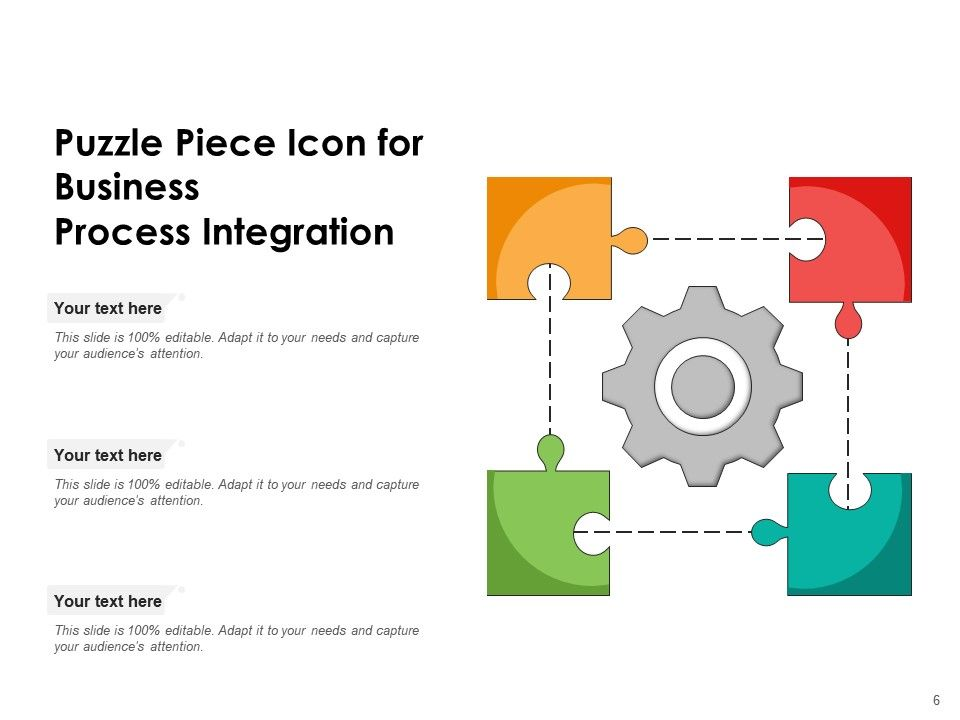puzzle piece: (466, 142, 658, 307), (741, 459, 929, 612), (781, 155, 930, 348), (486, 434, 625, 601)
